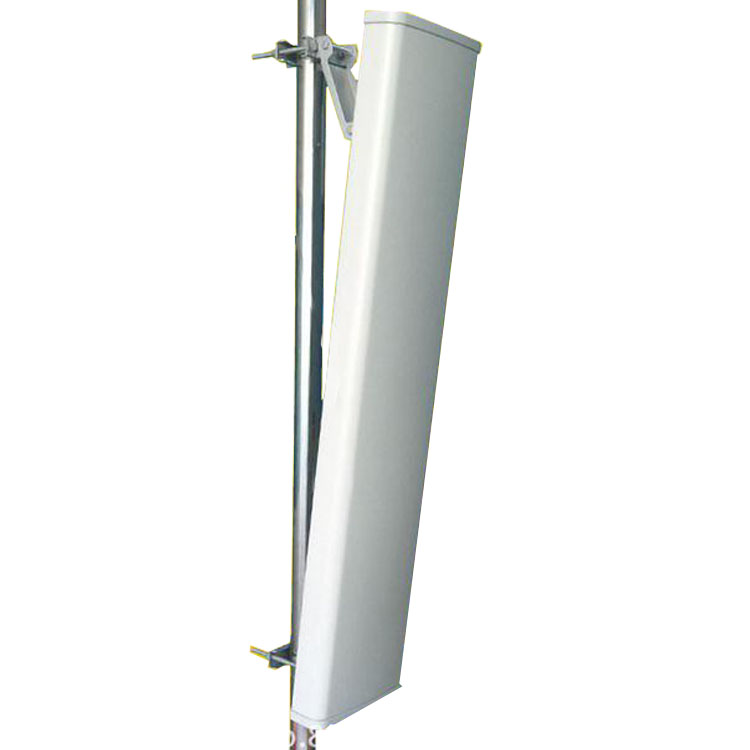sa: (321, 3, 459, 749)
